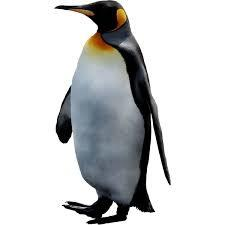king: (45, 1, 162, 225)
